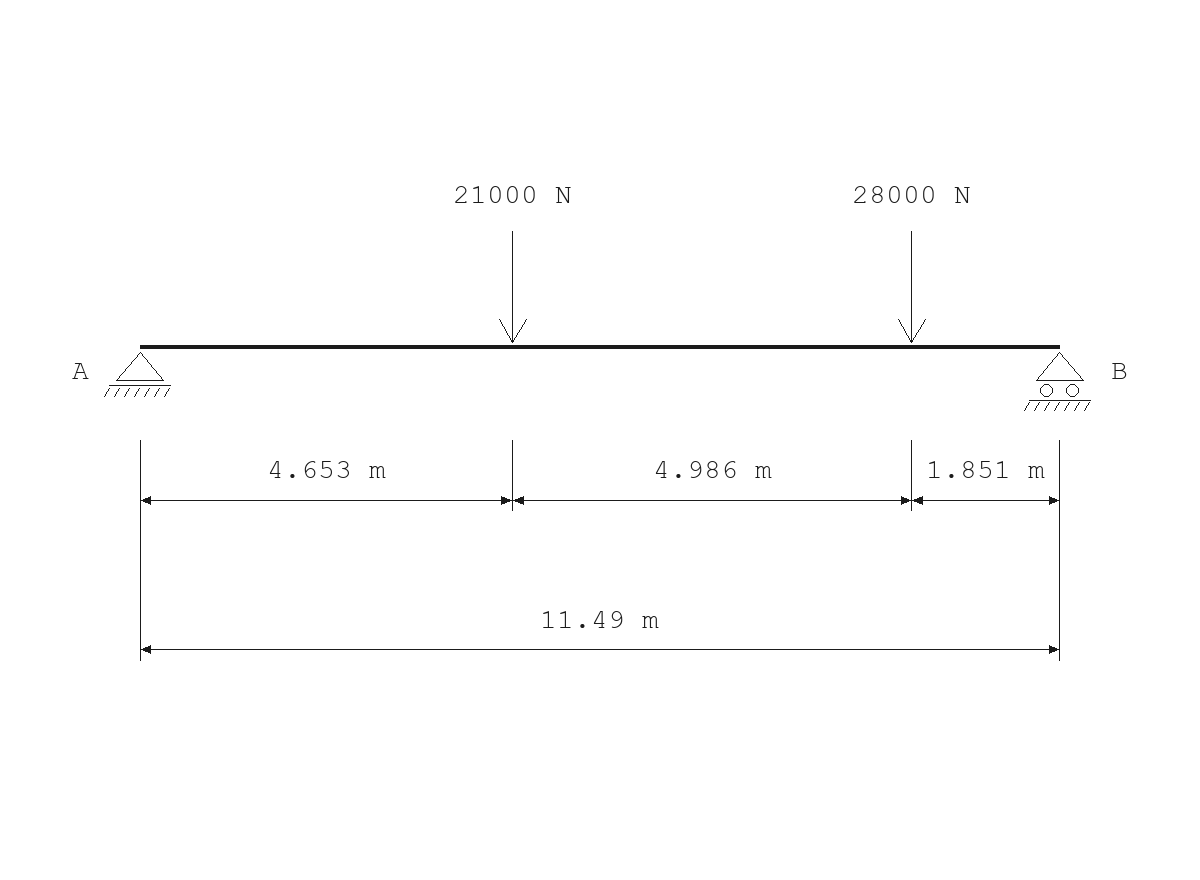pin_support: (104, 352, 171, 397)
point_load: (499, 231, 527, 343), (898, 231, 926, 343)
roller_support: (1024, 352, 1091, 411)
